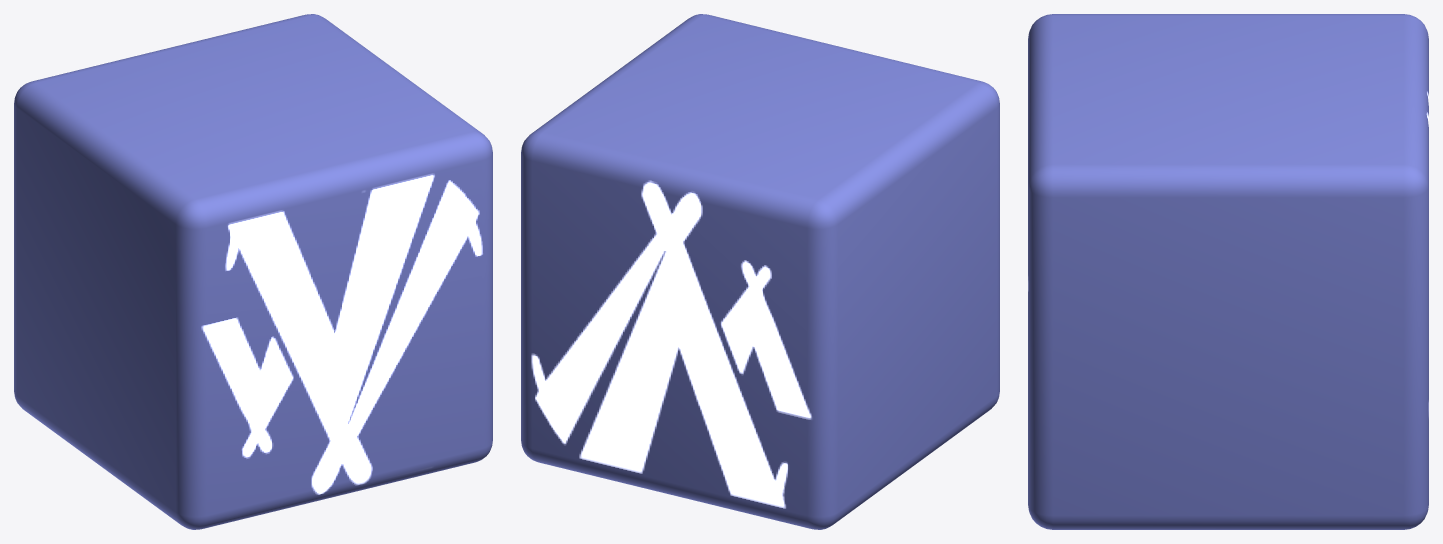
The model's file is TentCityCube.fbx.
3 renders of one model, left to right at view 1: azimuth 30°, elevation 25°; view 2: azimuth 150°, elevation 25°; view 3: azimuth 270°, elevation 25°, orthographic. The views are drawn at different scales.
Parts seen in each view (by area): view 1: Cube; view 2: Cube; view 3: Cube.
Boxes of the visible parts, x1=… form: Cube: x1=14, y1=14, x2=492, y2=529; Cube: x1=521, y1=14, x2=999, y2=529; Cube: x1=1028, y1=14, x2=1428, y2=529.
Size of the model in its own units: 2 by 2 by 2.
